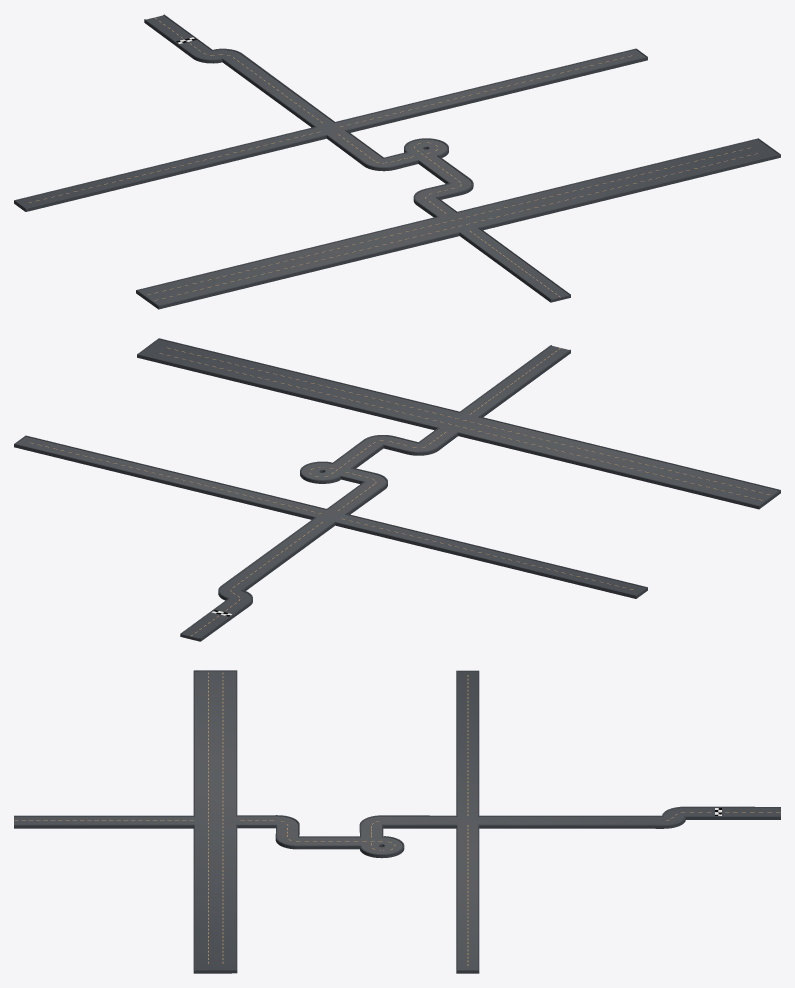
File: Path6.fbx
The picture shows the model from 3 angles, top to bottom: view 1: azimuth 30°, elevation 25°; view 2: azimuth 150°, elevation 25°; view 3: azimuth 270°, elevation 25°; orthographic projection.
Visible parts, largest first — view 1: Plane.007; view 2: Plane.007; view 3: Plane.007.
Boxes of the visible parts, x1,y1,x2,y2 form: Plane.007: (14, 14, 780, 309); Plane.007: (14, 338, 780, 641); Plane.007: (14, 670, 780, 973).
Size of the model in its own units: 10343 by 55.85 by 11172.
